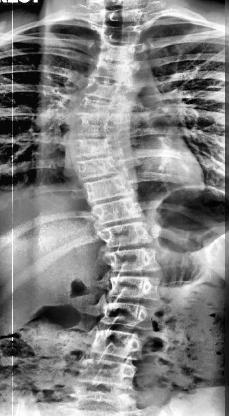Vertebrae: (70, 360, 138, 390), (84, 196, 152, 226), (58, 134, 126, 164), (70, 97, 143, 123), (86, 59, 148, 89), (76, 176, 142, 204), (89, 223, 155, 250), (78, 81, 146, 107), (103, 274, 165, 302), (64, 156, 126, 184), (104, 248, 165, 276), (66, 115, 134, 139), (98, 304, 156, 332), (84, 332, 144, 359), (87, 42, 149, 68)
